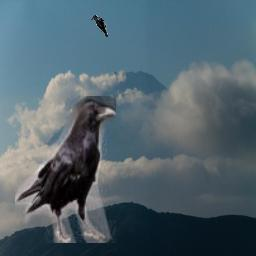Crow: (15, 96, 116, 243), (91, 15, 108, 37)
